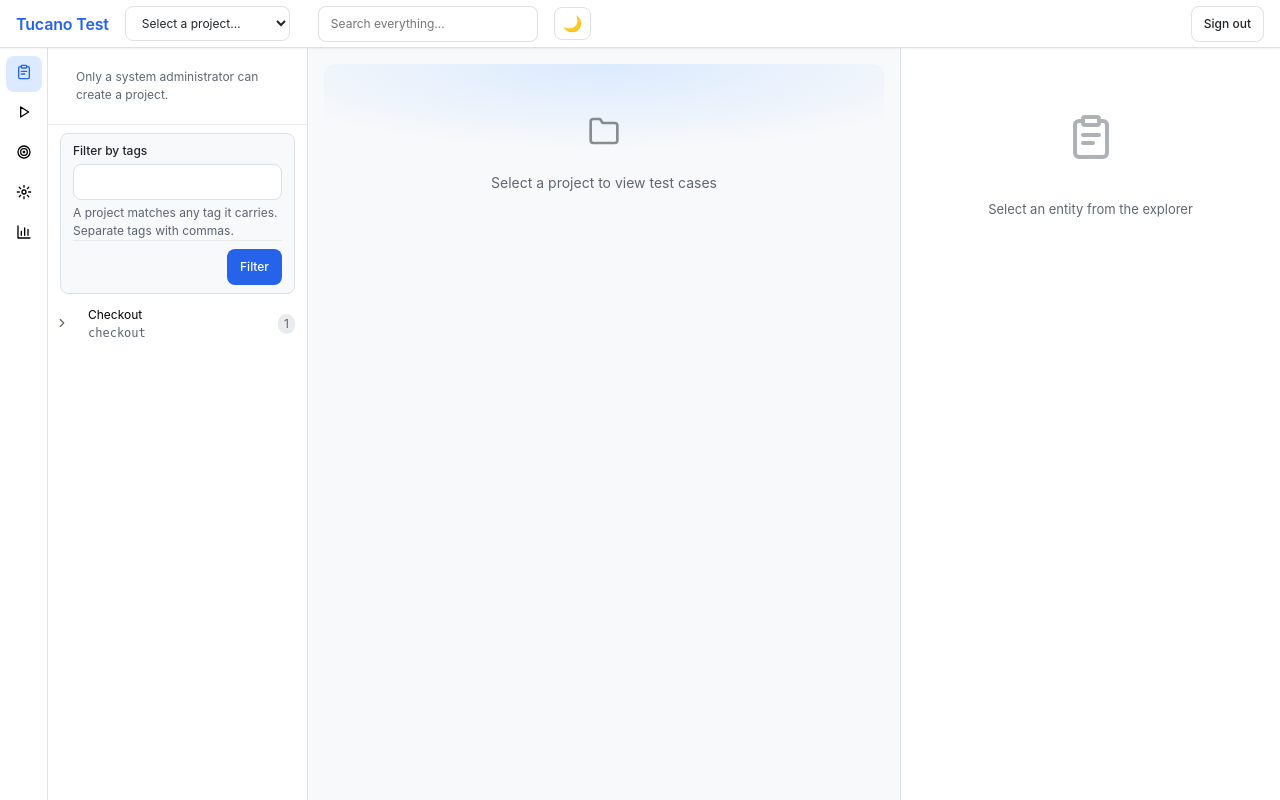
it: switches the left panel navigator when the active module changes (#195)
# Select the project to activate the left panel
Select "Checkout (checkout)" in the dropdown named "Active project" at (207, 24), box [125,6,290,41]
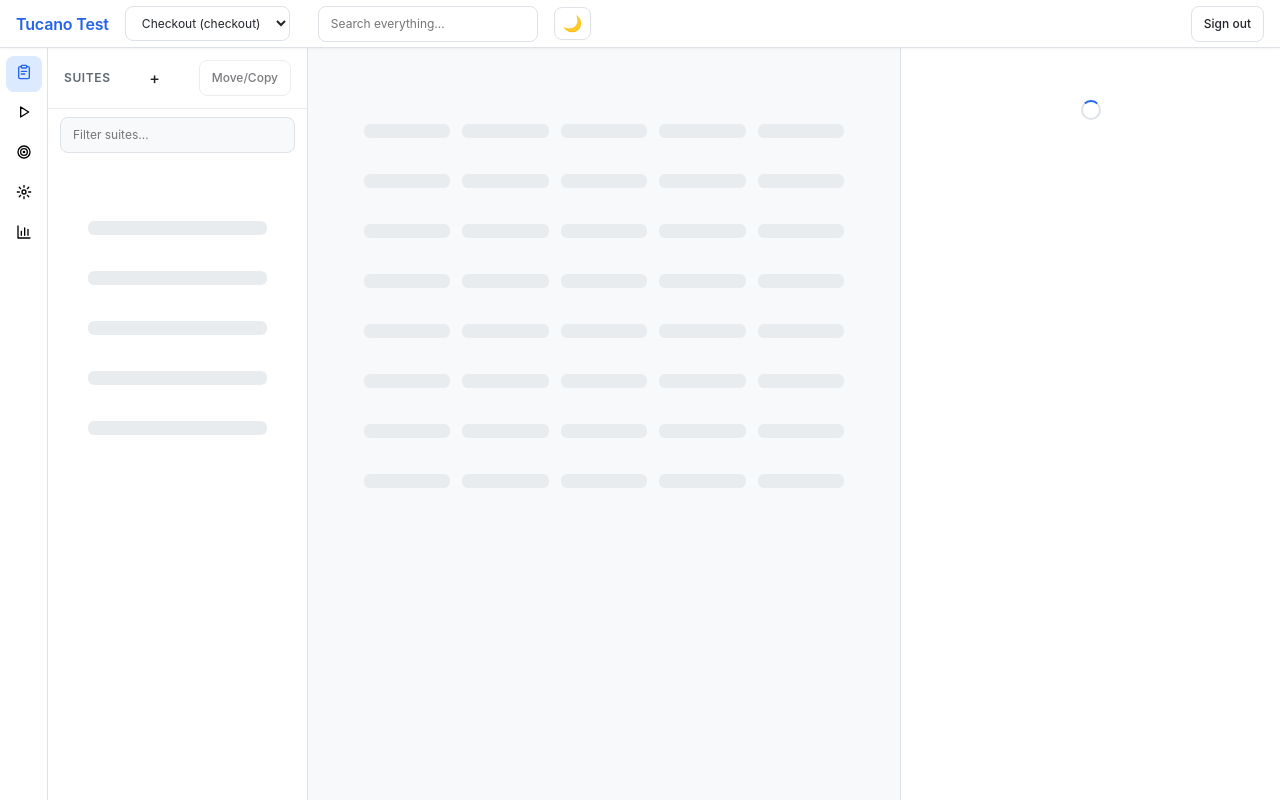
Expected: the element named "Suite tree" is shown, [48,48,308,799]
# Switch to Runs - left panel should show "Runs"
Click the button named "Test Runs" at (24, 114), box [6,96,42,132]
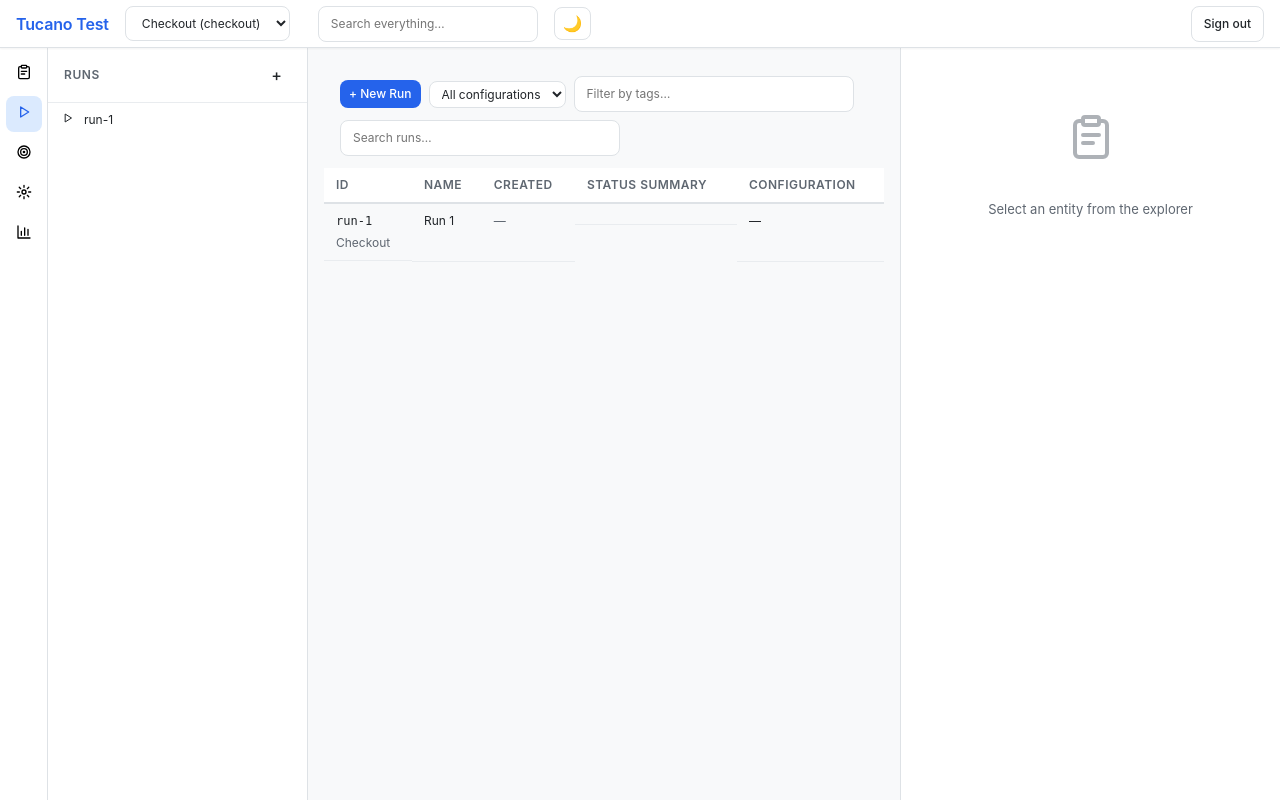
Expected: the element "Runs" is shown, [48,48,308,799]
# Switch to Milestones - left panel should show "Milestones"
Click the button named "Milestones" at (24, 154), box [6,136,42,172]
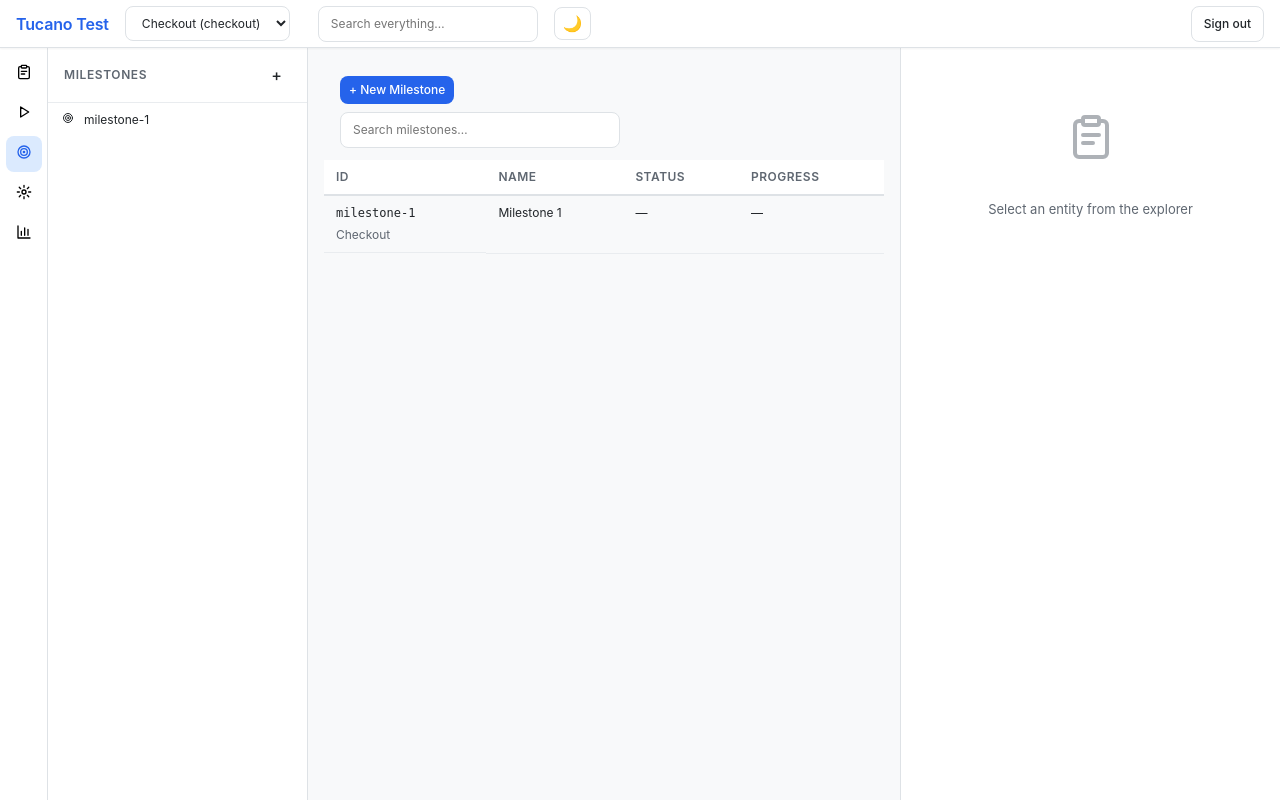
Expected: the element "Milestones" is shown, [48,48,308,799]
# Switch to Configurations - left panel should show "Configurations"
Click the button named "Configurations" at (24, 194), box [6,176,42,212]
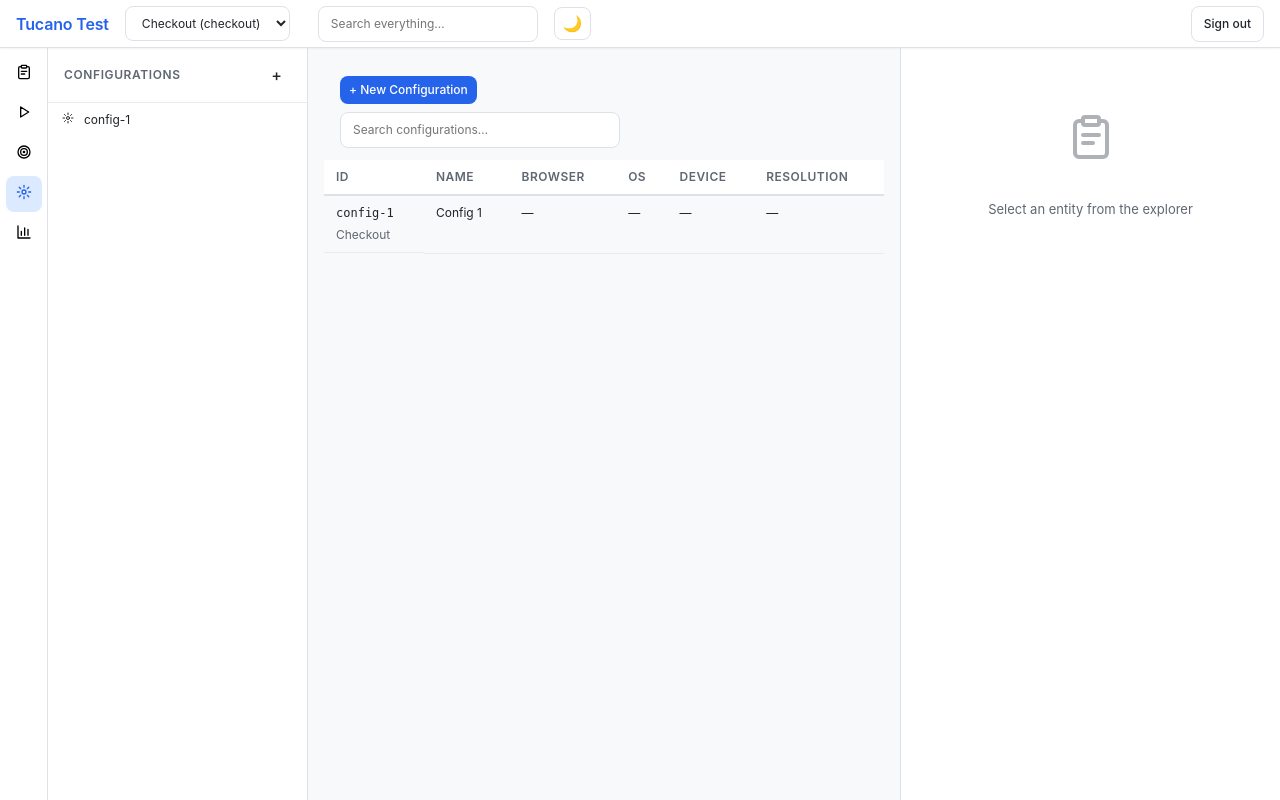
Expected: the element "Configurations" is shown, [48,48,308,799]
# Switch back to Cases - left panel should show "Suite tree" again
Click the button named "Test Cases" at (24, 74), box [6,56,42,92]
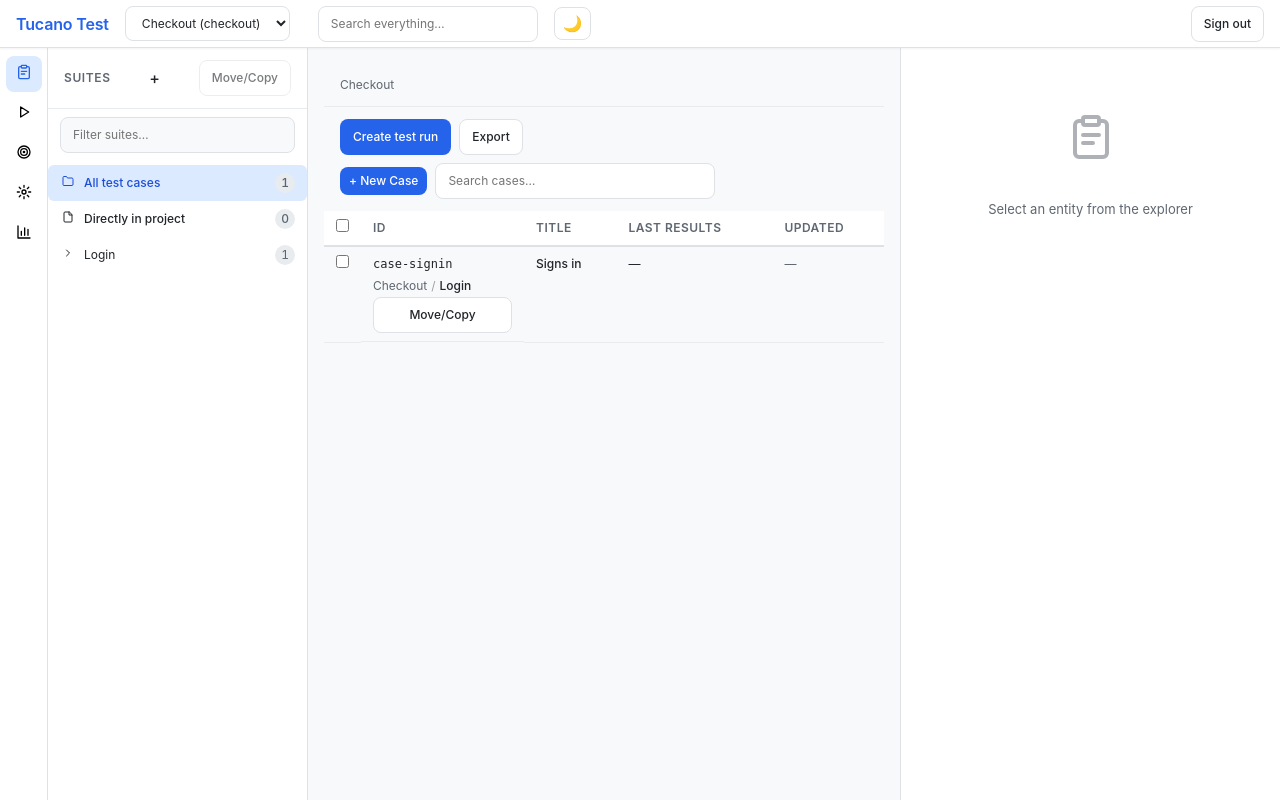
Expected: the element named "Suite tree" is shown, [48,48,308,799]
